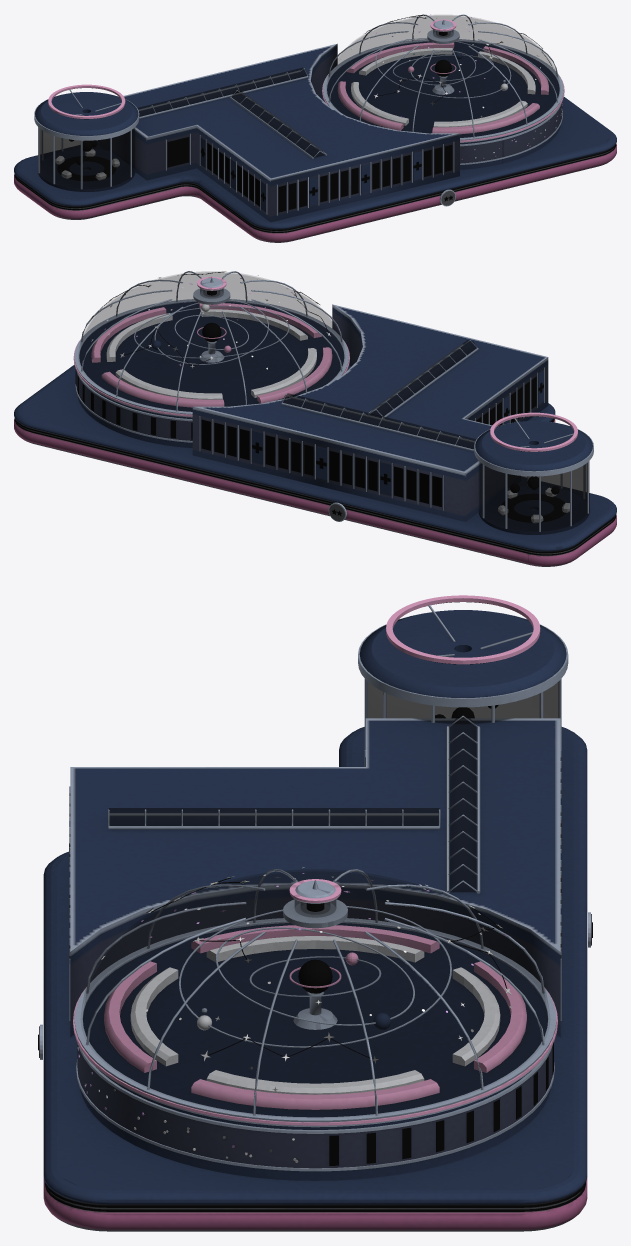
Rendered from SM_Evo_CivicHall.fbx.
3 views of the same model, one above another, from view 1: azimuth 30°, elevation 25°; view 2: azimuth 150°, elevation 25°; view 3: azimuth 270°, elevation 25° (orthographic). The views are drawn at different scales.
Visible parts, largest first — view 1: SMN_Evo_CivicHall, Emblem_Fx_CivicHall, SpinOrbit_CivicHallOrbit3; view 2: SMN_Evo_CivicHall, Emblem_Fx_CivicHall, SpinOrbit_CivicHallOrbit3, SpinOrbit_CivicHallOrbit2; view 3: SMN_Evo_CivicHall, Emblem_Fx_CivicHall, SpinOrbit_CivicHallOrbit3, SpinOrbit_CivicHallOrbit2.
Boxes of the visible parts, <box> form: SMN_Evo_CivicHall: <box>14,14,616,242</box>; Emblem_Fx_CivicHall: <box>14,14,616,232</box>; SpinOrbit_CivicHallOrbit3: <box>375,38,511,98</box>; SMN_Evo_CivicHall: <box>14,271,616,566</box>; Emblem_Fx_CivicHall: <box>14,271,616,555</box>; SpinOrbit_CivicHallOrbit3: <box>134,304,289,358</box>; SpinOrbit_CivicHallOrbit2: <box>151,300,268,364</box>; SMN_Evo_CivicHall: <box>39,595,591,1231</box>; Emblem_Fx_CivicHall: <box>38,602,592,1211</box>; SpinOrbit_CivicHallOrbit3: <box>179,906,451,1047</box>; SpinOrbit_CivicHallOrbit2: <box>216,927,414,1030</box>.
Bounding box in the file's own units: 3.84 × 0.91 × 1.88.
